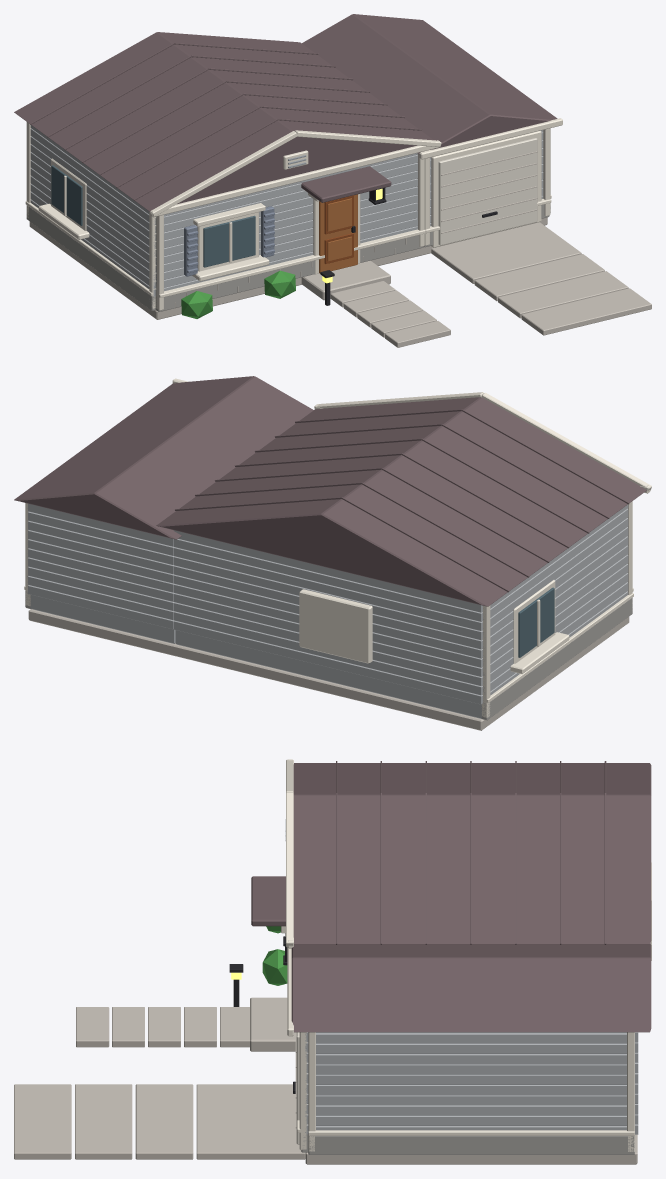
The model's file is small_house_01.fbx.
3 renders of one model, top to bottom at view 1: azimuth 30°, elevation 25°; view 2: azimuth 150°, elevation 25°; view 3: azimuth 270°, elevation 25°, orthographic. The views are drawn at different scales.
Parts seen in each view (by area): view 1: Roof_Main, Roof_Garage, GarageDoor_Plain, Driveway_Slab_03, Driveway_Slab_02, Driveway_Slab_01, Driveway_Slab_00, Wall_Skirt_Main, Garage_Apron, Roof_Fascia_Main, Window_Glass_Front, Foundation_Main (+52 smaller); view 2: Roof_Main, Roof_Garage, Foundation_Main, Structure_Main, Window_Frame_Rear, Detail_Siding_Main_Rear_00, Detail_Siding_Main_Rear_08, Detail_Siding_Main_Rear_09, Detail_Siding_Main_Rear_01, Wall_Skirt_Left, Detail_Siding_Main_Rear_10, Detail_Siding_Main_Rear_07 (+33 smaller); view 3: Roof_Main, Roof_Garage, Wall_Skirt_Right, Driveway_Slab_01, Driveway_Slab_02, Driveway_Slab_03, Driveway_Slab_00, Detail_Siding_Right_09, Garage_Apron, Detail_Siding_Right_01, Detail_Siding_Right_02, Detail_Siding_Right_03 (+20 smaller).
Part boxes in pixels (x1=…): Roof_Main: x1=14, y1=32, x2=433, y2=211; Roof_Garage: x1=302, y1=14, x2=557, y2=154; GarageDoor_Plain: x1=438, y1=138, x2=537, y2=245; Driveway_Slab_03: x1=521, y1=288, x2=651, y2=335; Driveway_Slab_02: x1=498, y1=271, x2=628, y2=318; Driveway_Slab_01: x1=474, y1=254, x2=604, y2=301; Driveway_Slab_00: x1=451, y1=236, x2=581, y2=283; Wall_Skirt_Main: x1=155, y1=235, x2=423, y2=311; Garage_Apron: x1=431, y1=222, x2=558, y2=267; Roof_Fascia_Main: x1=150, y1=140, x2=439, y2=217; Window_Glass_Front: x1=203, y1=215, x2=255, y2=267; Foundation_Main: x1=29, y1=217, x2=547, y2=319; Roof_Main: x1=156, y1=397, x2=646, y2=606; Roof_Garage: x1=14, y1=376, x2=313, y2=539; Foundation_Main: x1=28, y1=609, x2=629, y2=730; Structure_Main: x1=175, y1=630, x2=481, y2=718; Window_Frame_Rear: x1=299, y1=589, x2=372, y2=663; Detail_Siding_Main_Rear_00: x1=173, y1=620, x2=482, y2=704; Detail_Siding_Main_Rear_08: x1=173, y1=547, x2=482, y2=630; Detail_Siding_Main_Rear_09: x1=173, y1=539, x2=482, y2=621; Detail_Siding_Main_Rear_01: x1=173, y1=611, x2=482, y2=695; Wall_Skirt_Left: x1=481, y1=598, x2=632, y2=720; Detail_Siding_Main_Rear_10: x1=173, y1=530, x2=482, y2=612; Detail_Siding_Main_Rear_07: x1=173, y1=556, x2=482, y2=640; Roof_Main: x1=293, y1=763, x2=651, y2=944; Roof_Garage: x1=291, y1=944, x2=651, y2=1032; Wall_Skirt_Right: x1=308, y1=1136, x2=634, y2=1154; Driveway_Slab_01: x1=135, y1=1084, x2=193, y2=1159; Driveway_Slab_02: x1=75, y1=1084, x2=132, y2=1159; Driveway_Slab_03: x1=14, y1=1084, x2=71, y2=1159; Driveway_Slab_00: x1=196, y1=1084, x2=253, y2=1159; Detail_Siding_Right_09: x1=316, y1=1032, x2=626, y2=1043; Garage_Apron: x1=251, y1=1084, x2=305, y2=1159; Detail_Siding_Right_01: x1=316, y1=1115, x2=626, y2=1125; Detail_Siding_Right_02: x1=316, y1=1105, x2=626, y2=1115; Detail_Siding_Right_03: x1=316, y1=1095, x2=626, y2=1105.
Bounding box in the file's own units: 1118 × 417 × 1153.
